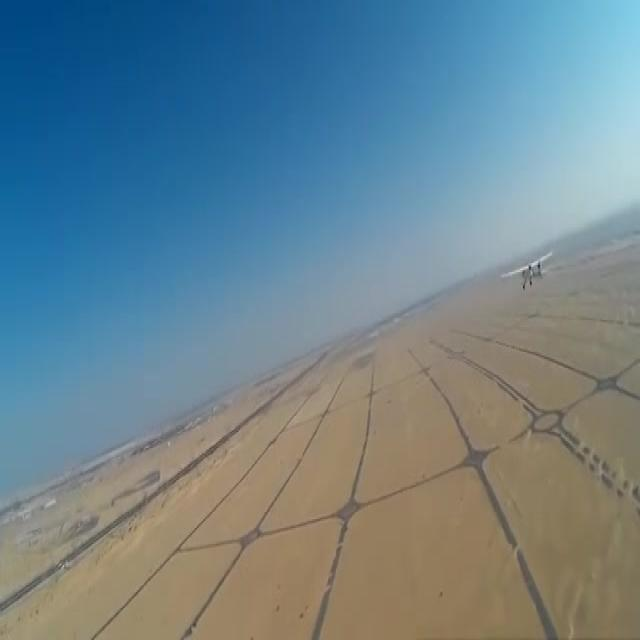iha: (500, 252, 553, 290)
